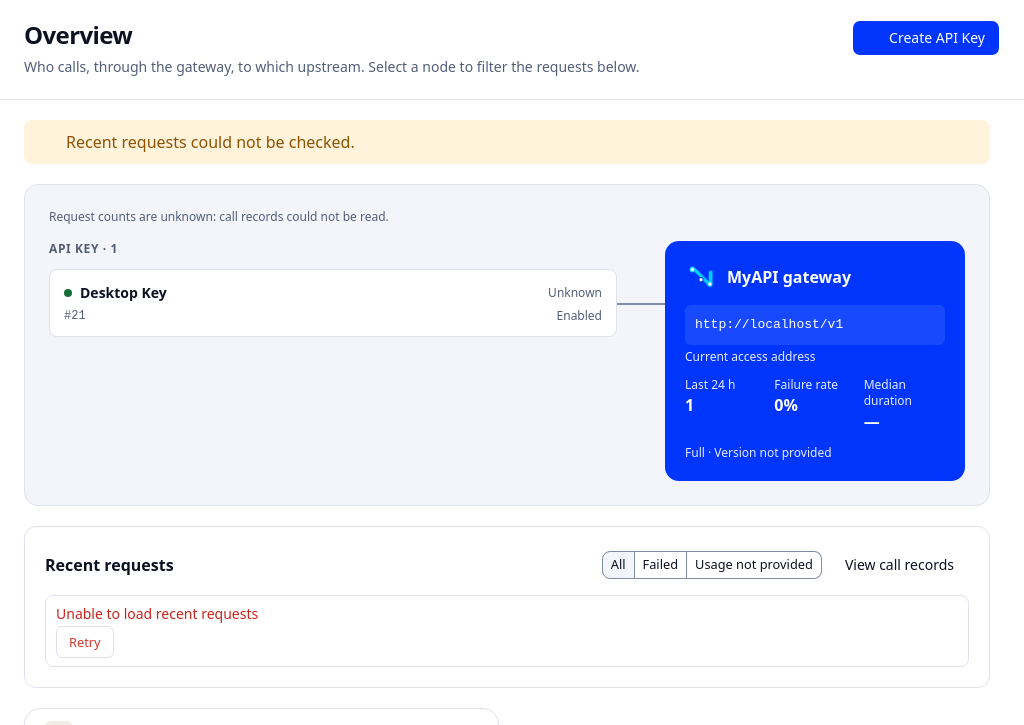
overview for an ordinary user › a failed read shows a generic retry without the server message, then the rows
Expected: the text "Unable to load recent requests" is shown, [56,604,258,623]
Expected: the text "Unknown" is shown, [548,285,602,301]
Click the button "Retry".
click(85, 642)  # box [56,626,114,658]
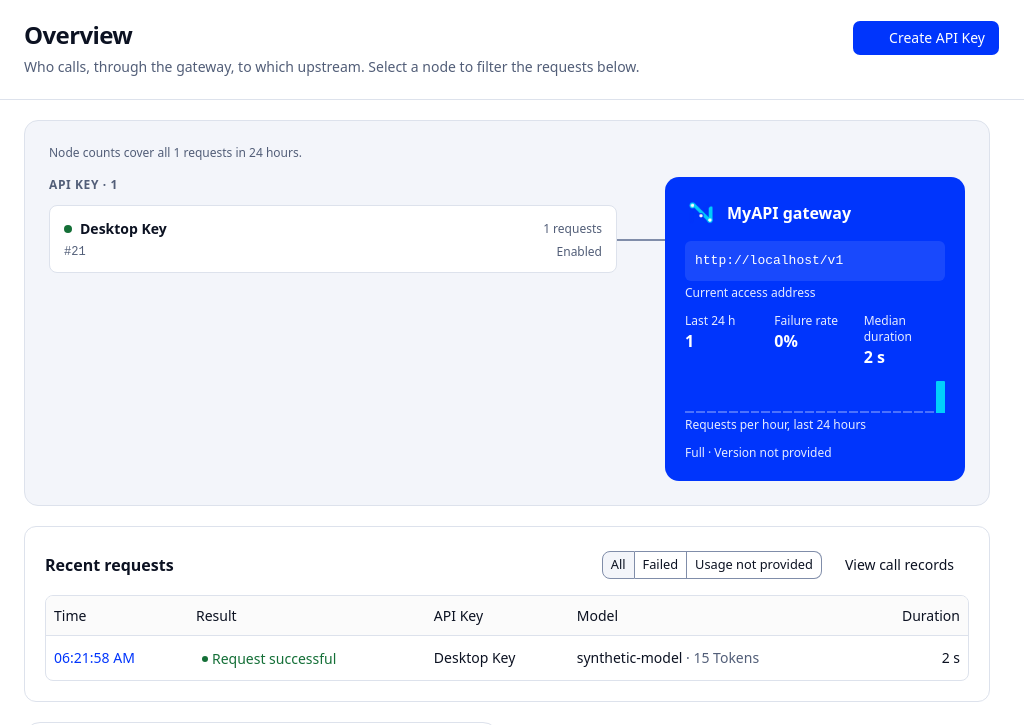
Expected: the text "Desktop Key" is shown, [426,636,569,680]
